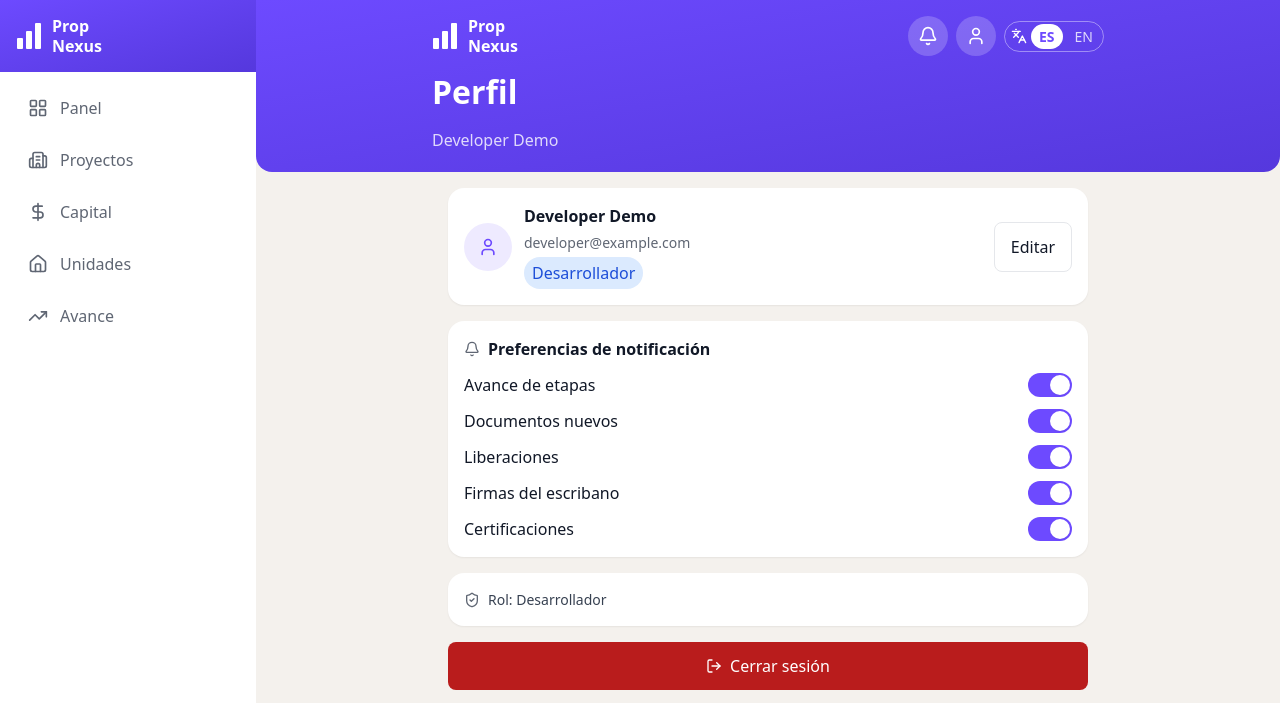
Test: ProfileScreen › edición del nombre › mientras guarda, el botón dice Guardando… y está deshabilitado
Click the button "Editar" at x=1033, y=246, box [994,222,1072,272]
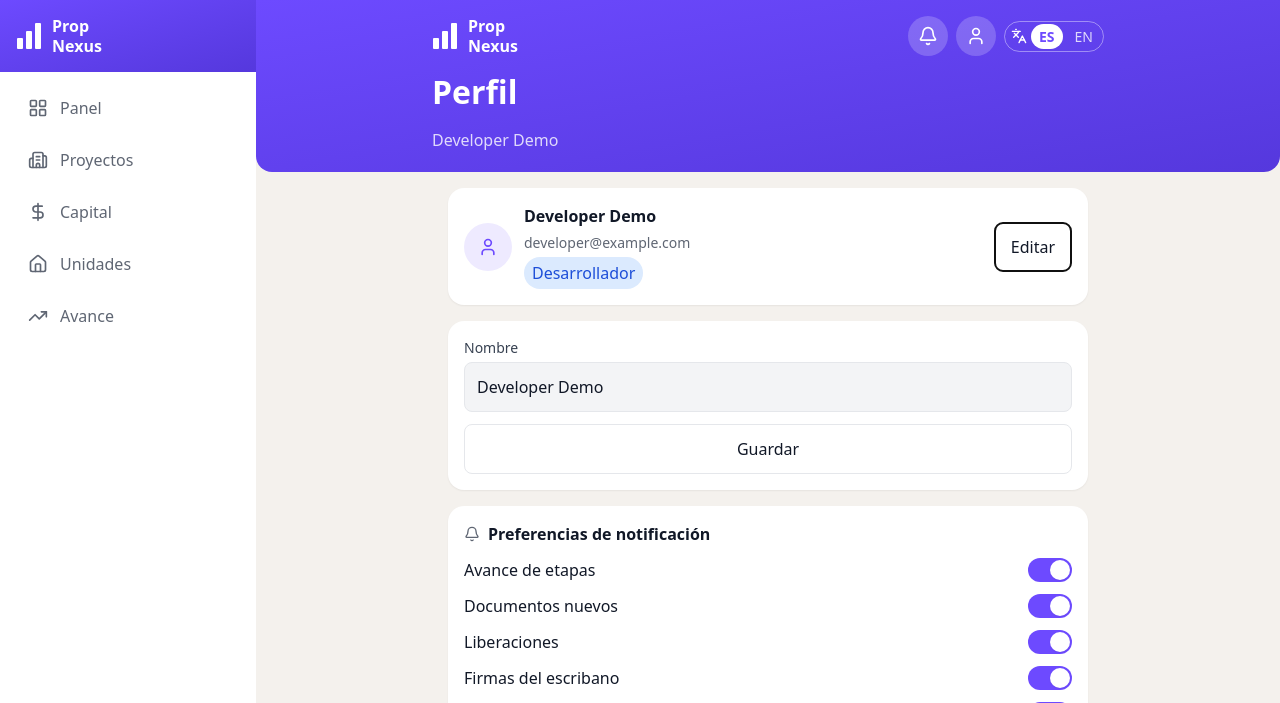
Click the button "Guardar" at x=768, y=449, box [464,424,1072,474]
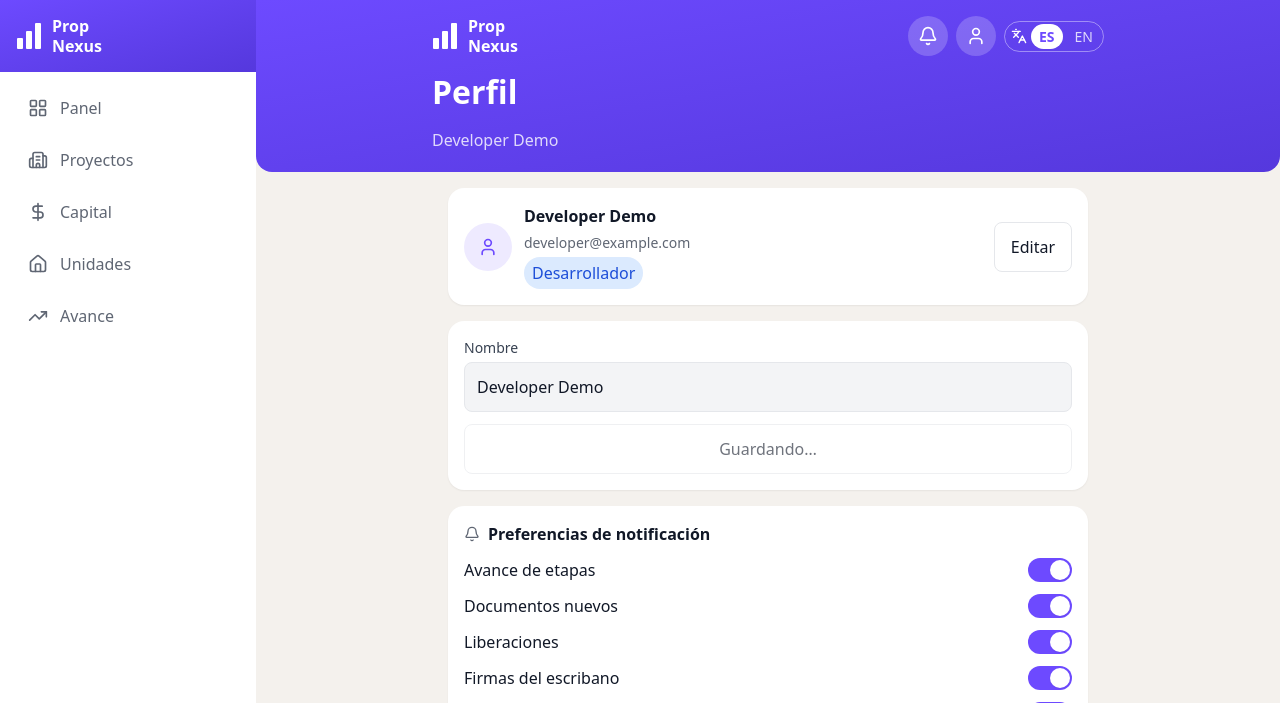
Check: the button "Guardando…" is disabled, box [464,424,1072,474]
